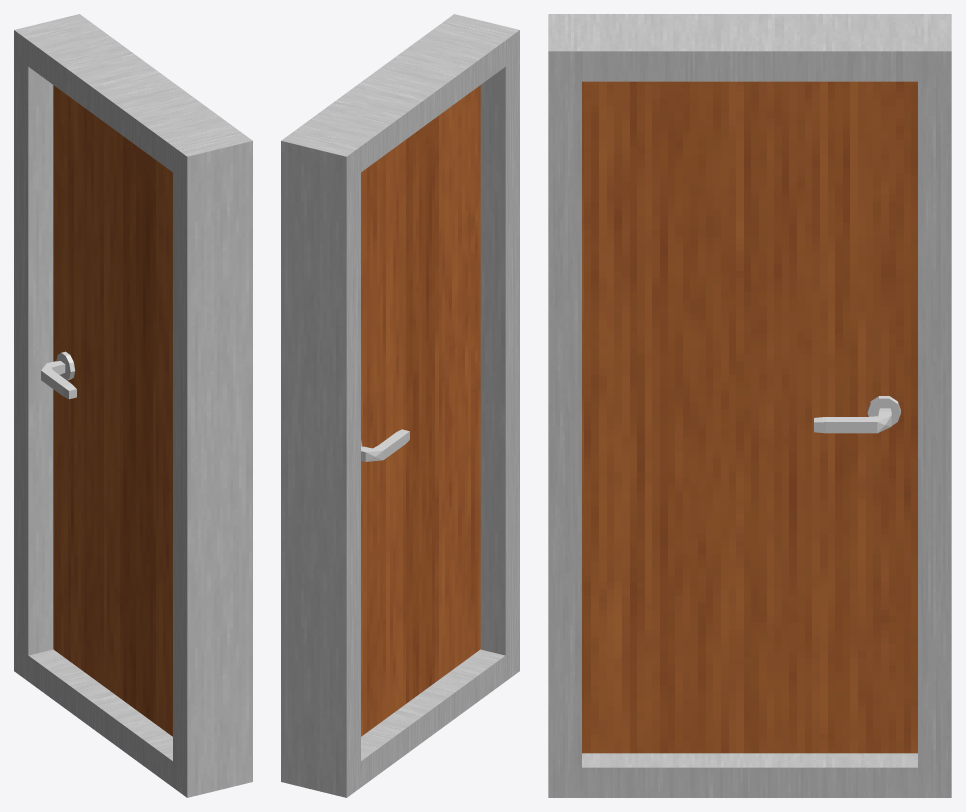
The model's file is singledoor.glb.
3 views of the same model, side by side, from view 1: azimuth 30°, elevation 25°; view 2: azimuth 150°, elevation 25°; view 3: azimuth 270°, elevation 25° (orthographic). The views are drawn at different scales.
Parts seen in each view (by area): view 1: DoorFrame, Door, DoorHandle; view 2: DoorFrame, Door, DoorHandle; view 3: Door, DoorFrame, DoorHandle.
Part boxes in pixels (x1,y1,x2,y2): DoorFrame: (14,14,252,797); Door: (53,85,172,736); DoorHandle: (41,351,76,399); DoorFrame: (281,14,519,797); Door: (361,85,480,736); DoorHandle: (361,429,409,461); Door: (582,81,917,753); DoorFrame: (548,14,951,797); DoorHandle: (814,396,900,433).
Size of the model in its own units: 0.301 by 2.45 by 1.2.
2 materials, 2 textured.
